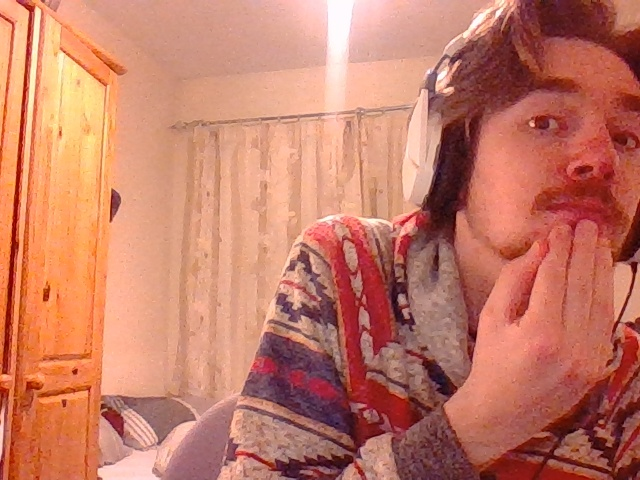thanks: (475, 220, 614, 429)
